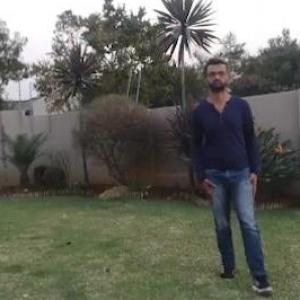follow: (185, 31, 272, 296)
